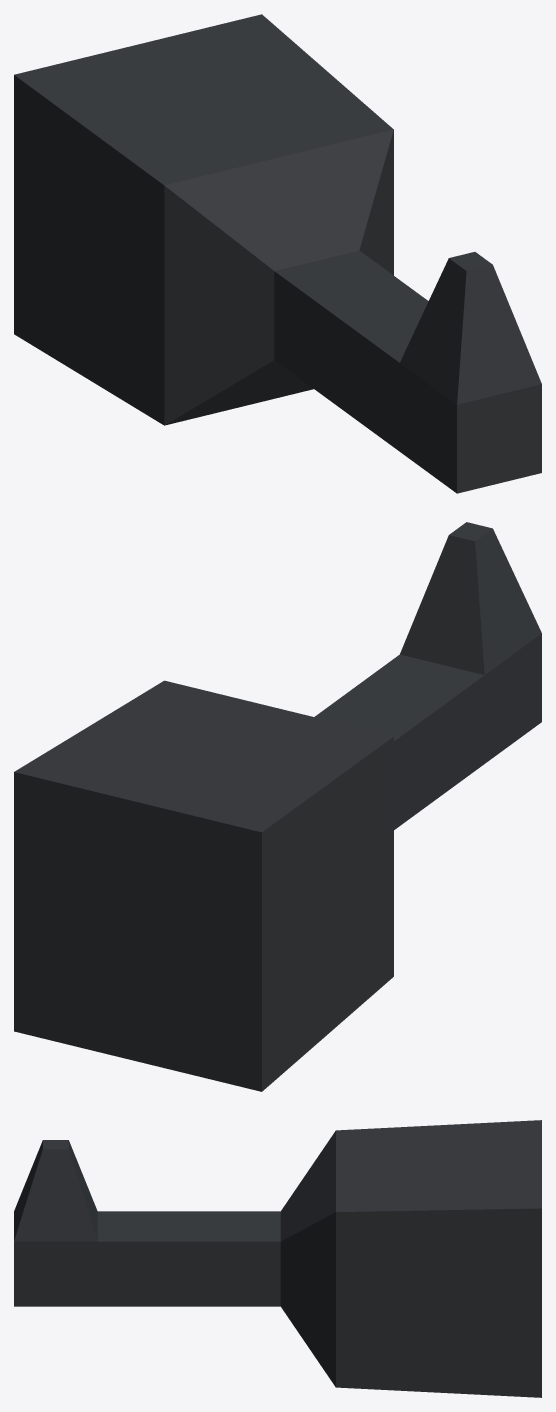
Rendered from meat_hook.glb.
3 views of the same model, one above another, from view 1: azimuth 30°, elevation 25°; view 2: azimuth 150°, elevation 25°; view 3: azimuth 270°, elevation 25° (orthographic). The views are drawn at different scales.
Visible parts, largest first — view 1: SM_Gen_Prop_Hook_01; view 2: SM_Gen_Prop_Hook_01; view 3: SM_Gen_Prop_Hook_01.
Boxes of the visible parts, x1,y1,x2,y2 form: SM_Gen_Prop_Hook_01: (14,14,541,493); SM_Gen_Prop_Hook_01: (14,522,541,1091); SM_Gen_Prop_Hook_01: (14,1120,541,1397).
Bounding box in the file's own units: 0.1053 × 0.1162 × 0.2659.
1 material, 1 textured.
